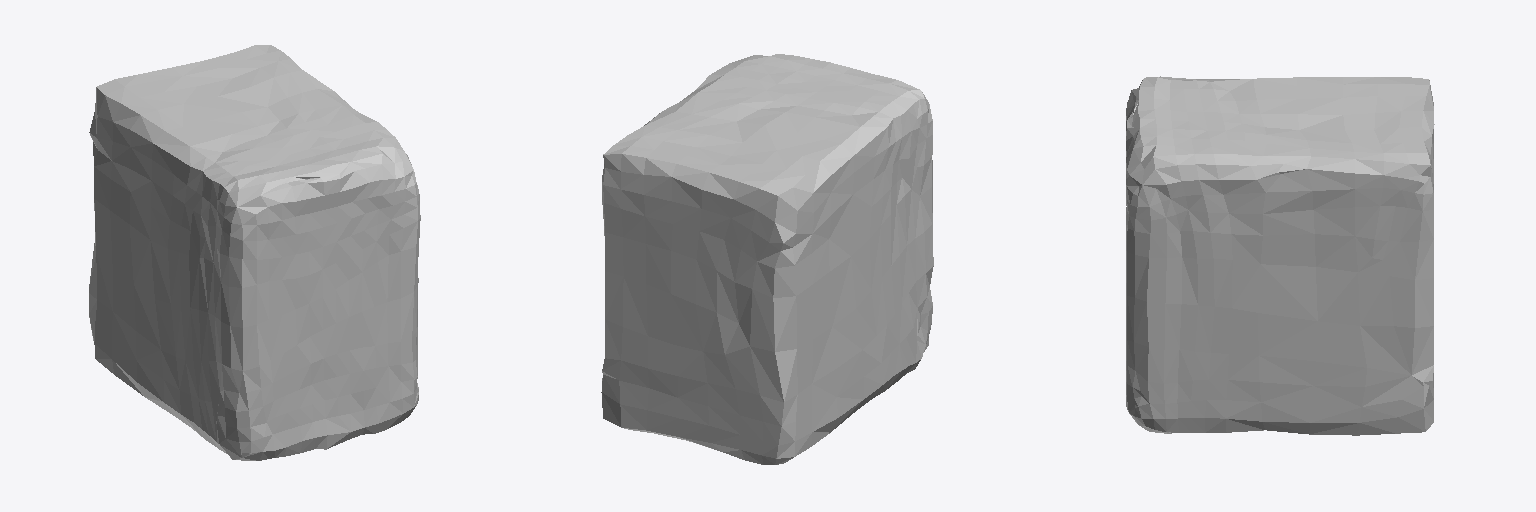
Rendered from Deck_Lower.obj.
The picture shows the model from 3 angles: view 1: azimuth 30°, elevation 25°; view 2: azimuth 150°, elevation 25°; view 3: azimuth 270°, elevation 25°; orthographic projection.
Parts seen in each view (by area): view 1: Deck_Lower; view 2: Deck_Lower; view 3: Deck_Lower.
Boxes of the visible parts, box(x1,y1,x2,y2) form: Deck_Lower: box(89, 45, 420, 460); Deck_Lower: box(601, 54, 933, 464); Deck_Lower: box(1126, 76, 1434, 435).
Size of the model in its own units: 1.5 by 2.1 by 2.09.